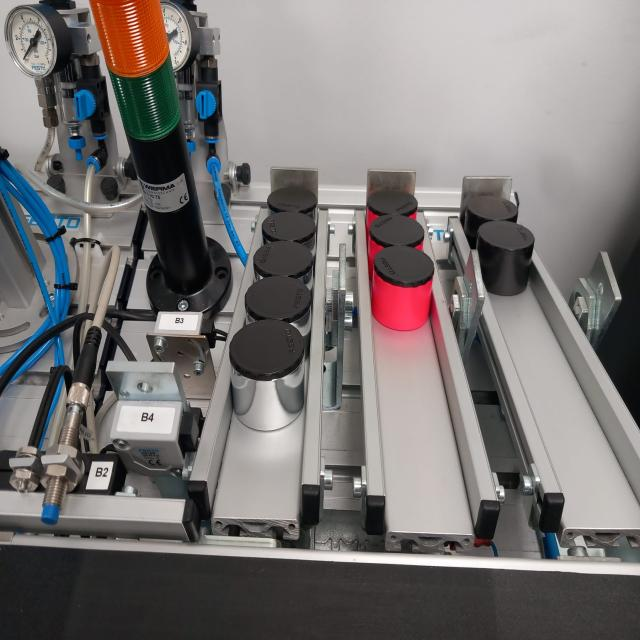NoLid: (475, 223, 532, 300), (463, 197, 522, 228)
Workpiece: (218, 314, 317, 438), (366, 244, 438, 336), (231, 275, 312, 331), (252, 236, 320, 276), (364, 211, 427, 252), (260, 205, 318, 243), (267, 180, 318, 216), (365, 186, 420, 218)
